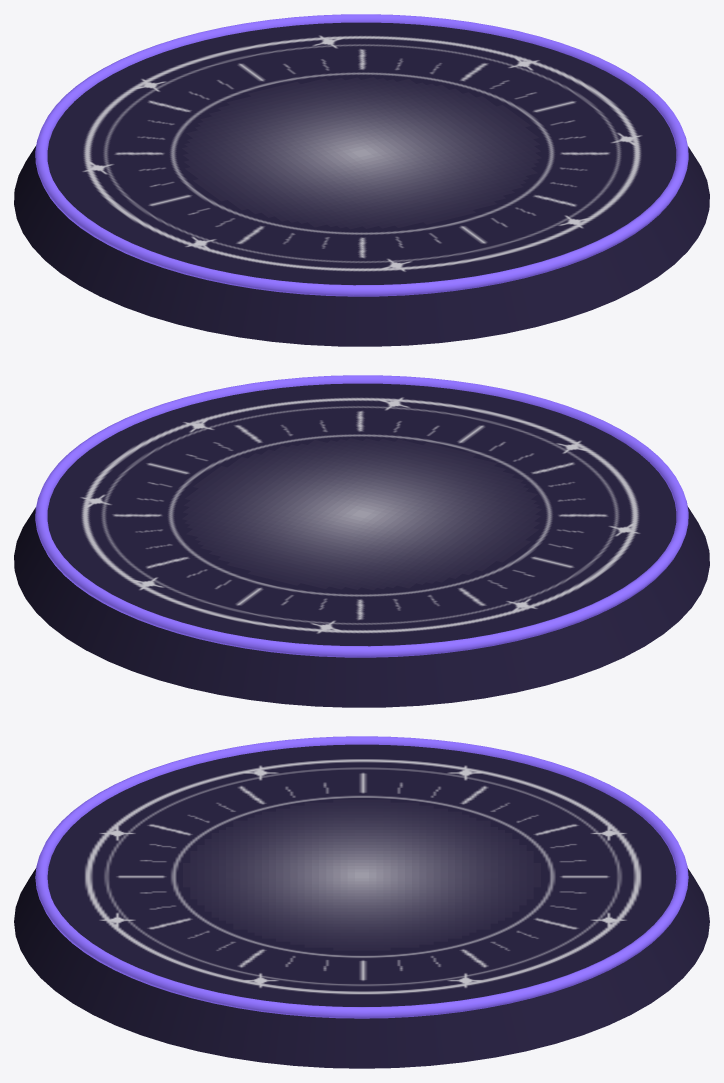
File: pedestal.glb
3 renders of one model, top to bottom at view 1: azimuth 30°, elevation 25°; view 2: azimuth 150°, elevation 25°; view 3: azimuth 270°, elevation 25°, orthographic.
Parts seen in each view (by area): view 1: stone, shadow, lip, runes; view 2: stone, shadow, lip, runes; view 3: stone, shadow, lip, runes.
Boxes of the visible parts, x1,y1,x2,y2 form: stone: (14,22,709,346); shadow: (245,103,479,202); lip: (35,14,688,296); runes: (83,35,641,271); stone: (14,383,709,707); shadow: (244,464,478,563); lip: (35,375,688,657); runes: (81,397,639,633); stone: (14,744,709,1068); shadow: (248,827,475,923); lip: (35,736,688,1018); runes: (85,759,641,994).
Bounding box in the file's own units: 2.28 × 0.18 × 2.28.
4 materials, 2 textured.
